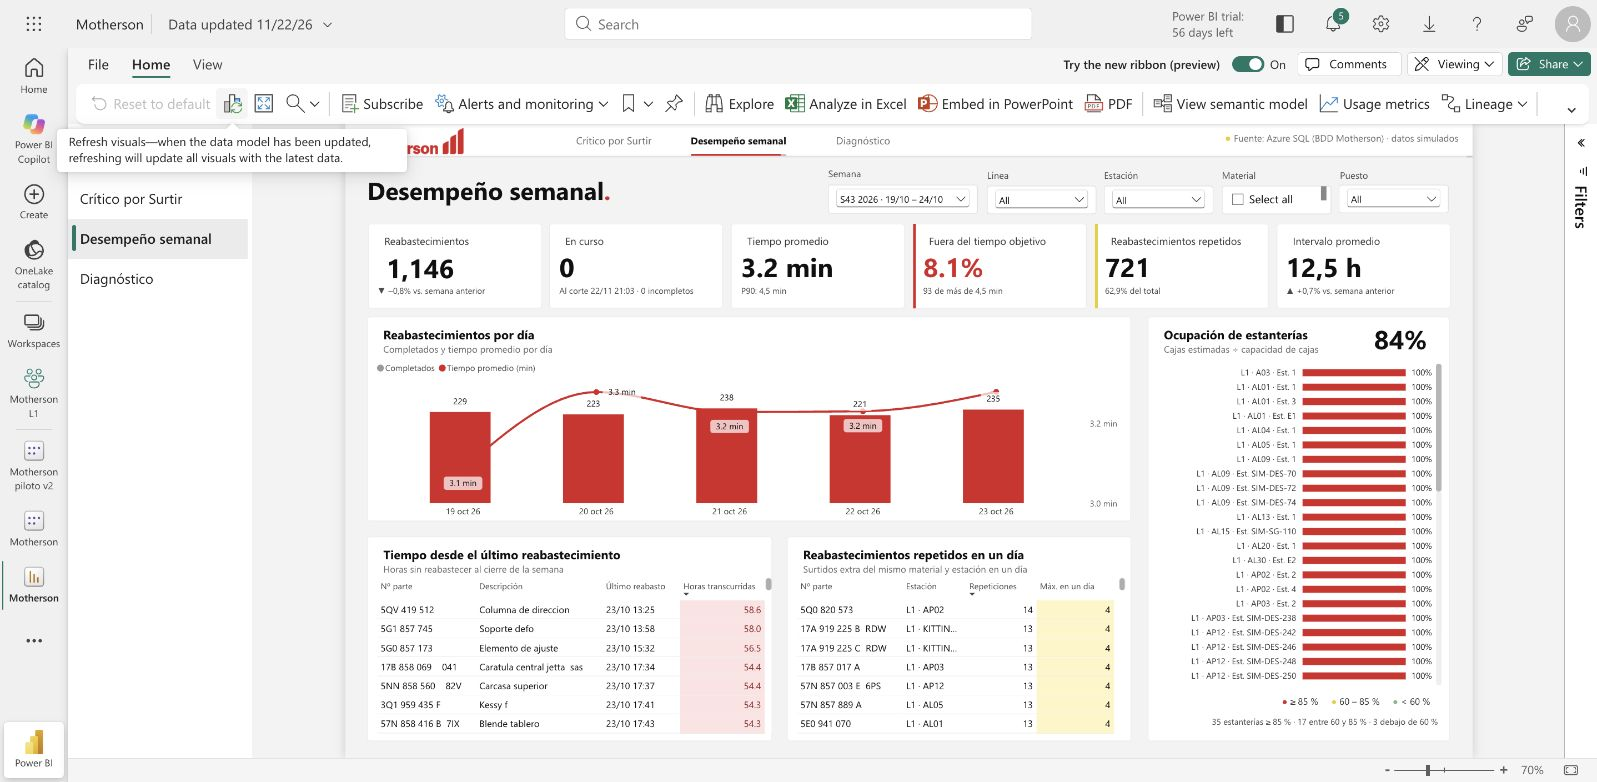

This screenshot's page, from the dashboard's own definition file:
{"tool":"powerbi","page":{"name":"Desempeño semanal","canvas":[1600,900],"ordinal":1},"visuals":[{"type":"textbox","box":[0,0,1600,46],"z":200},{"type":"textbox","box":[0,46,1600,2],"z":300},{"type":"image","box":[22.1,5.8,145,37.1],"z":400},{"type":"pageNavigator","box":[296,3,525,42],"z":600},{"type":"textbox","box":[491,43,135,3],"z":700},{"type":"textbox","box":[1230,10,350,28],"z":800},{"type":"textbox","box":[31.4,71.4,348.6,70],"z":900},{"type":"textbox","box":[910.4,63.4,155,24],"z":1100},{"type":"slicer","fields":{"Values":["ESTACION.Linea"]},"box":[910.4,87.4,155,40],"z":1200},{"type":"textbox","box":[1077.4,63.4,155,24],"z":1300},{"type":"slicer","fields":{"Values":["ESTACION.Estacion"]},"box":[1077.4,87.4,155,40],"z":1400},{"type":"textbox","box":[1244.4,63.4,155,24],"z":1500},{"type":"slicer","fields":{"Values":["MATERIAL.numero_parte"]},"box":[1244.4,87.4,155,40],"z":1600},{"type":"textbox","box":[1411.4,63.4,155,24],"z":1700},{"type":"slicer","fields":{"Values":["PUESTO_LOGISTICO.Personal"]},"box":[1411,87,155.5,40],"z":1800},{"type":"textbox","box":[685.3,61.2,80,24.1],"z":1900},{"type":"slicer","fields":{"Values":["REGISTRO.Periodo"]},"box":[686.1,86.6,212.2,40.7],"z":2000},{"type":"textbox","box":[32,142,246,120],"z":2100},{"type":"multiRowCard","fields":{"Values":["REGISTRO.Reabast Completados"]},"box":[58.3,178.6,217.5,49.5],"z":2120},{"type":"multiRowCard","fields":{"Values":["REGISTRO.Completados Var Texto"]},"box":[46,228,218,32],"z":2130},{"type":"textbox","box":[290,142,246,120],"z":2200},{"type":"multiRowCard","fields":{"Values":["REGISTRO.Reabast En Curso"]},"box":[304,178,218,50],"z":2220},{"type":"multiRowCard","fields":{"Values":["REGISTRO.En Curso Nota"]},"box":[304,228,218,32],"z":2230},{"type":"textbox","box":[548,142,246,120],"z":2300},{"type":"multiRowCard","fields":{"Values":["REGISTRO.Tiempo Promedio Reabast"]},"box":[562,178,218,50],"z":2320},{"type":"multiRowCard","fields":{"Values":["REGISTRO.Tiempo Promedio P90 Nota"]},"box":[562,228,218,32],"z":2330},{"type":"textbox","box":[806,142,246,120],"z":2400},{"type":"textbox","box":[806,142,4,120],"z":2410},{"type":"multiRowCard","fields":{"Values":["REGISTRO.% Fuera Objetivo"]},"box":[820,178,218,50],"z":2420},{"type":"multiRowCard","fields":{"Values":["REGISTRO.Fuera Objetivo Nota"]},"box":[820,228,218,32],"z":2430},{"type":"textbox","box":[1064,142,246,120],"z":2500},{"type":"textbox","box":[1064,142,4,120],"z":2510},{"type":"multiRowCard","fields":{"Values":["REGISTRO.Repetidos Total"]},"box":[1078,178,218,50],"z":2520},{"type":"multiRowCard","fields":{"Values":["REGISTRO.Repetidos Nota"]},"box":[1078,228,218,32],"z":2530},{"type":"textbox","box":[1322,142,246,120],"z":2600},{"type":"multiRowCard","fields":{"Values":["REGISTRO.Intervalo Texto"]},"box":[1336,178,218,50],"z":2620},{"type":"multiRowCard","fields":{"Values":["REGISTRO.Intervalo Var Texto"]},"box":[1336,228,218,32],"z":2630},{"type":"textbox","box":[31.8,274.1,1083.9,290],"z":3500},{"type":"lineClusteredColumnComboChart","fields":{"Category":["REGISTRO.Dia Corto"],"Y":["REGISTRO.Completados Dia"],"Y2":["REGISTRO.Tiempo Promedio Reabast"]},"box":[44.2,332.4,1052.1,231.6],"z":3600},{"type":"textbox","box":[1140,274,428,602],"z":3700},{"type":"multiRowCard","fields":{"Values":["UBICACION.% Ocupacion"]},"box":[1460.5,279.4,90.2,53],"z":3710},{"type":"multiRowCard","fields":{"Values":["UBICACION.Ocupacion Nota"]},"box":[1230,840,324,36],"z":3720},{"type":"clusteredBarChart","fields":{"Category":["ESTANTERIA.Rack"],"Y":["UBICACION.% Ocupacion"]},"box":[1140.5,332.4,415.5,465],"z":3800},{"type":"textbox","box":[1330.3,810.1,221,27.7],"z":3900},{"type":"textbox","box":[31.4,585.7,574.3,290],"z":4400},{"type":"tableEx","fields":{"Values":["MATERIAL.numero_parte","MATERIAL.Descripcion Mostrar","REGISTRO.Ultimo Reabasto","REGISTRO.Horas Desde Ultimo"]},"box":[44.3,644.3,561.4,221.4],"z":4500},{"type":"textbox","box":[627.1,585.7,488.6,290],"z":4600},{"type":"tableEx","fields":{"Values":["UBICACION.numero_parte","UBICACION.Estacion","REGISTRO.Repetidos Tabla","REGISTRO.Max Reabast Dia"]},"box":[640,644.3,467.1,221.4],"z":4700}]}

Visuals, with their boxes on the page's 1600x900 design canvas (x1, y1, x2, y2). These are canvas units, not pixel positions in the 1597x782 screenshot, which may show the page scaled, cropped or inside an application window:
textbox: rect(0, 0, 1600, 46)
textbox: rect(0, 46, 1600, 48)
image: rect(22, 6, 167, 43)
pageNavigator: rect(296, 3, 821, 45)
textbox: rect(491, 43, 626, 46)
textbox: rect(1230, 10, 1580, 38)
textbox: rect(31, 71, 380, 141)
textbox: rect(910, 63, 1065, 87)
slicer - ESTACION.Linea: rect(910, 87, 1065, 127)
textbox: rect(1077, 63, 1232, 87)
slicer - ESTACION.Estacion: rect(1077, 87, 1232, 127)
textbox: rect(1244, 63, 1399, 87)
slicer - MATERIAL.numero_parte: rect(1244, 87, 1399, 127)
textbox: rect(1411, 63, 1566, 87)
slicer - PUESTO_LOGISTICO.Personal: rect(1411, 87, 1566, 127)
textbox: rect(685, 61, 765, 85)
slicer - REGISTRO.Periodo: rect(686, 87, 898, 127)
textbox: rect(32, 142, 278, 262)
multiRowCard - REGISTRO.Reabast Completados: rect(58, 179, 276, 228)
multiRowCard - REGISTRO.Completados Var Texto: rect(46, 228, 264, 260)
textbox: rect(290, 142, 536, 262)
multiRowCard - REGISTRO.Reabast En Curso: rect(304, 178, 522, 228)
multiRowCard - REGISTRO.En Curso Nota: rect(304, 228, 522, 260)
textbox: rect(548, 142, 794, 262)
multiRowCard - REGISTRO.Tiempo Promedio Reabast: rect(562, 178, 780, 228)
multiRowCard - REGISTRO.Tiempo Promedio P90 Nota: rect(562, 228, 780, 260)
textbox: rect(806, 142, 1052, 262)
textbox: rect(806, 142, 810, 262)
multiRowCard - REGISTRO.% Fuera Objetivo: rect(820, 178, 1038, 228)
multiRowCard - REGISTRO.Fuera Objetivo Nota: rect(820, 228, 1038, 260)
textbox: rect(1064, 142, 1310, 262)
textbox: rect(1064, 142, 1068, 262)
multiRowCard - REGISTRO.Repetidos Total: rect(1078, 178, 1296, 228)
multiRowCard - REGISTRO.Repetidos Nota: rect(1078, 228, 1296, 260)
textbox: rect(1322, 142, 1568, 262)
multiRowCard - REGISTRO.Intervalo Texto: rect(1336, 178, 1554, 228)
multiRowCard - REGISTRO.Intervalo Var Texto: rect(1336, 228, 1554, 260)
textbox: rect(32, 274, 1116, 564)
lineClusteredColumnComboChart - REGISTRO.Dia Corto x REGISTRO.Completados Dia: rect(44, 332, 1096, 564)
textbox: rect(1140, 274, 1568, 876)
multiRowCard - UBICACION.% Ocupacion: rect(1460, 279, 1551, 332)
multiRowCard - UBICACION.Ocupacion Nota: rect(1230, 840, 1554, 876)
clusteredBarChart - ESTANTERIA.Rack x UBICACION.% Ocupacion: rect(1140, 332, 1556, 797)
textbox: rect(1330, 810, 1551, 838)
textbox: rect(31, 586, 606, 876)
tableEx - MATERIAL.numero_parte x MATERIAL.Descripcion Mostrar: rect(44, 644, 606, 866)
textbox: rect(627, 586, 1116, 876)
tableEx - UBICACION.numero_parte x UBICACION.Estacion: rect(640, 644, 1107, 866)
